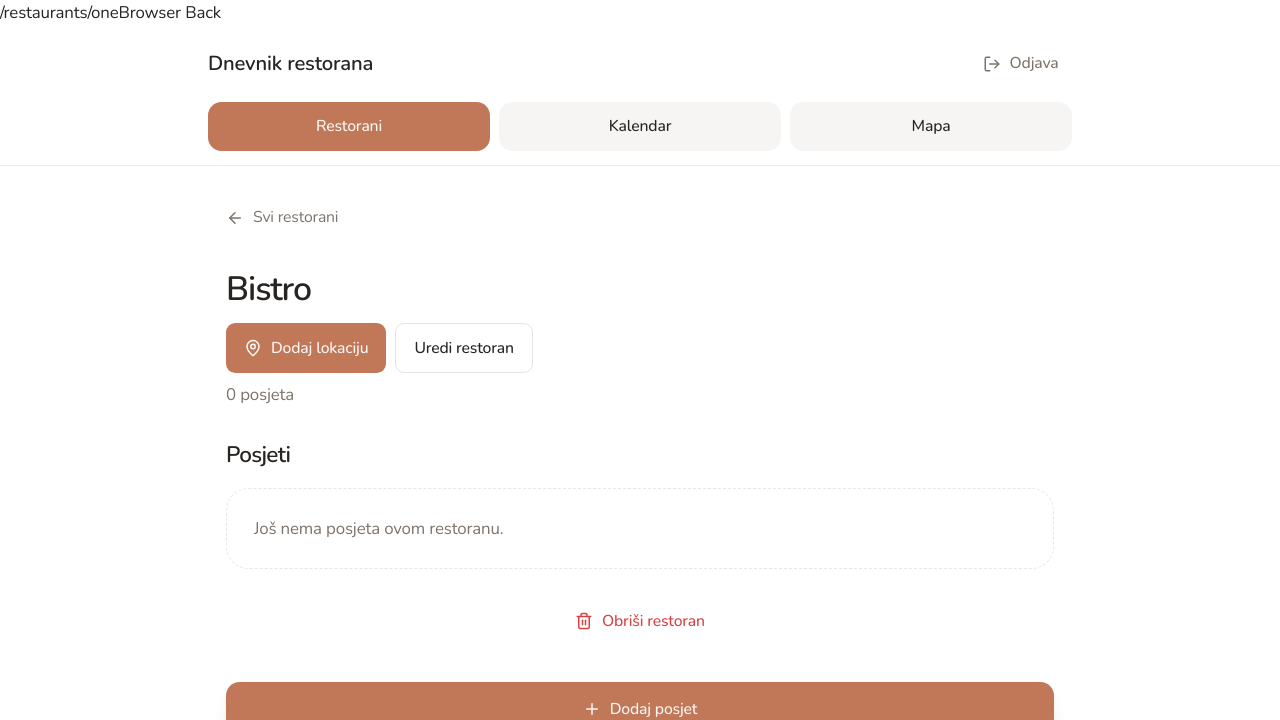
Test: Restaurant V1 routes › confirms and deletes a restaurant without visits, then returns to the list
This screenshot has width=1280, height=720.
Click the button "Obriši restoran" at (640, 621), box [226,596,1054,646]
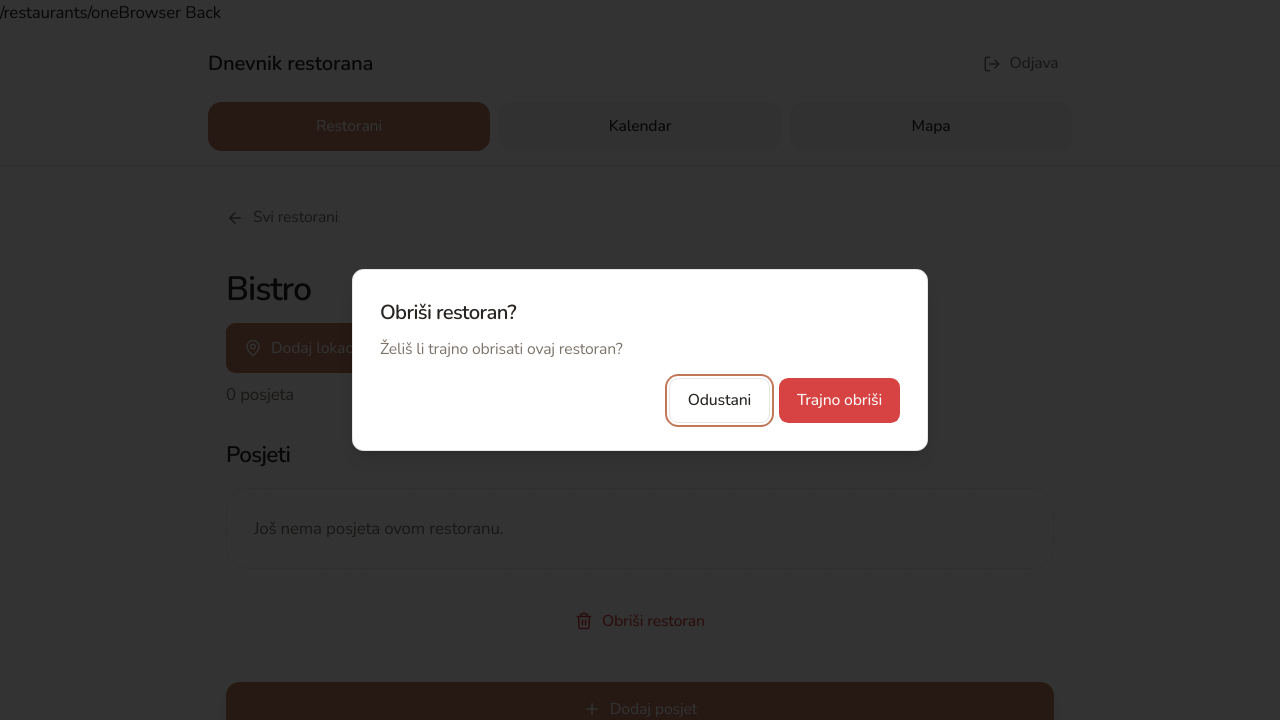
Expected: the text "Želiš li trajno obrisati ovaj restoran?" is shown, [380,338,623,360]
Click the button "Trajno obriši" at (840, 400), box [779,378,900,423]
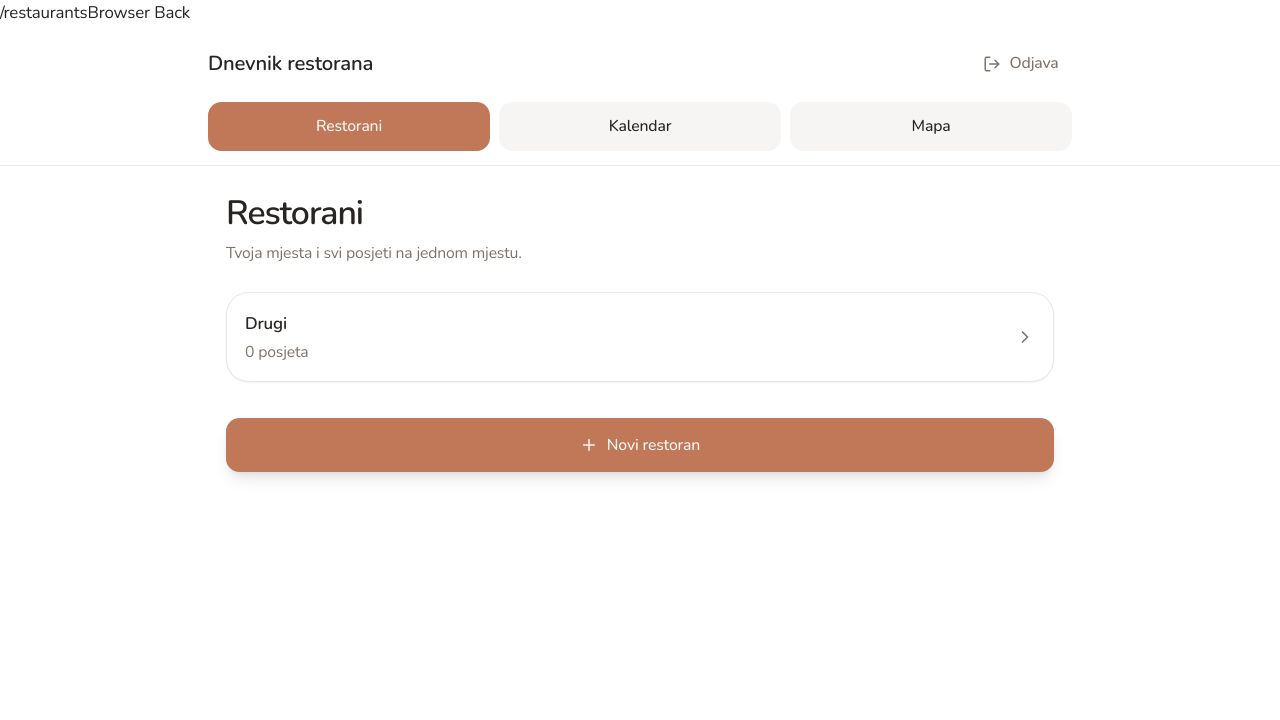
Expected: the text with test id "route" reads "/restaurants", [0,1,87,24]
